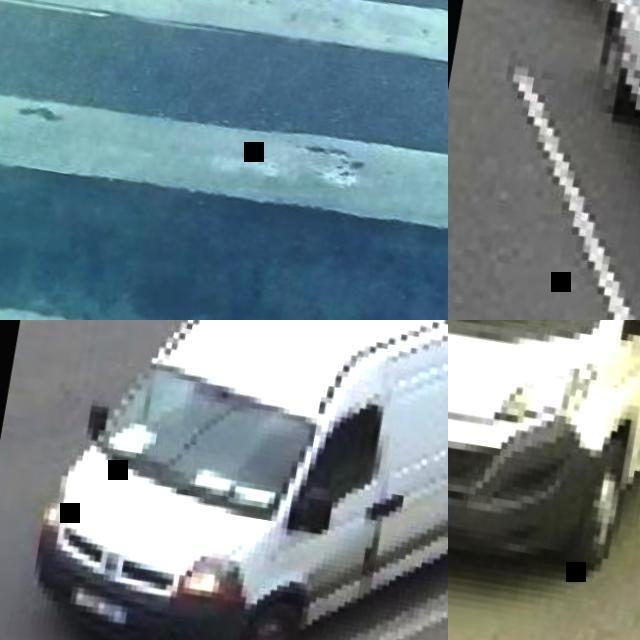car: (37, 327, 433, 639)
